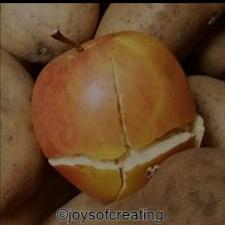rotten apple: (28, 31, 213, 205)
